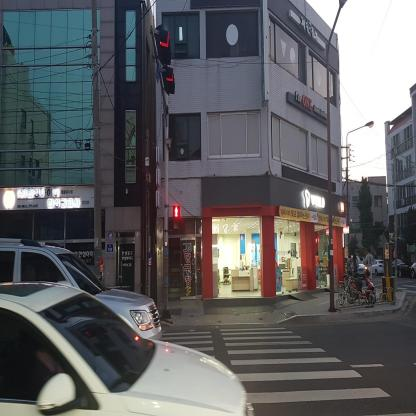Red: (172, 204, 180, 231)
